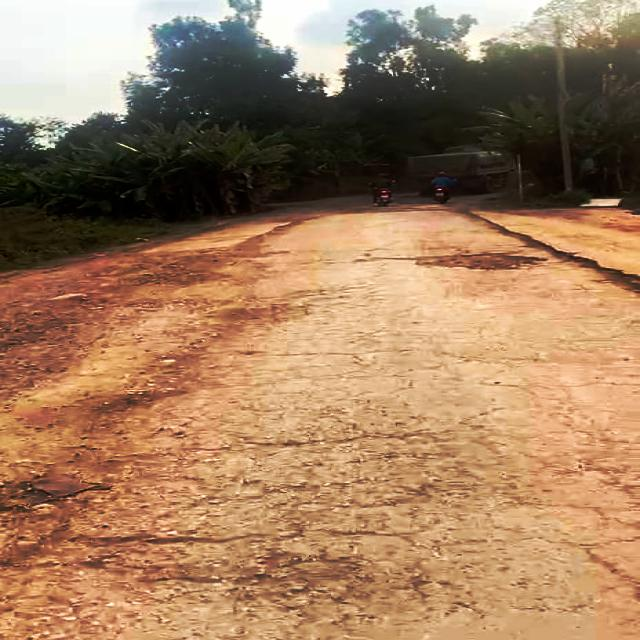pothole: (408, 251, 544, 271)
